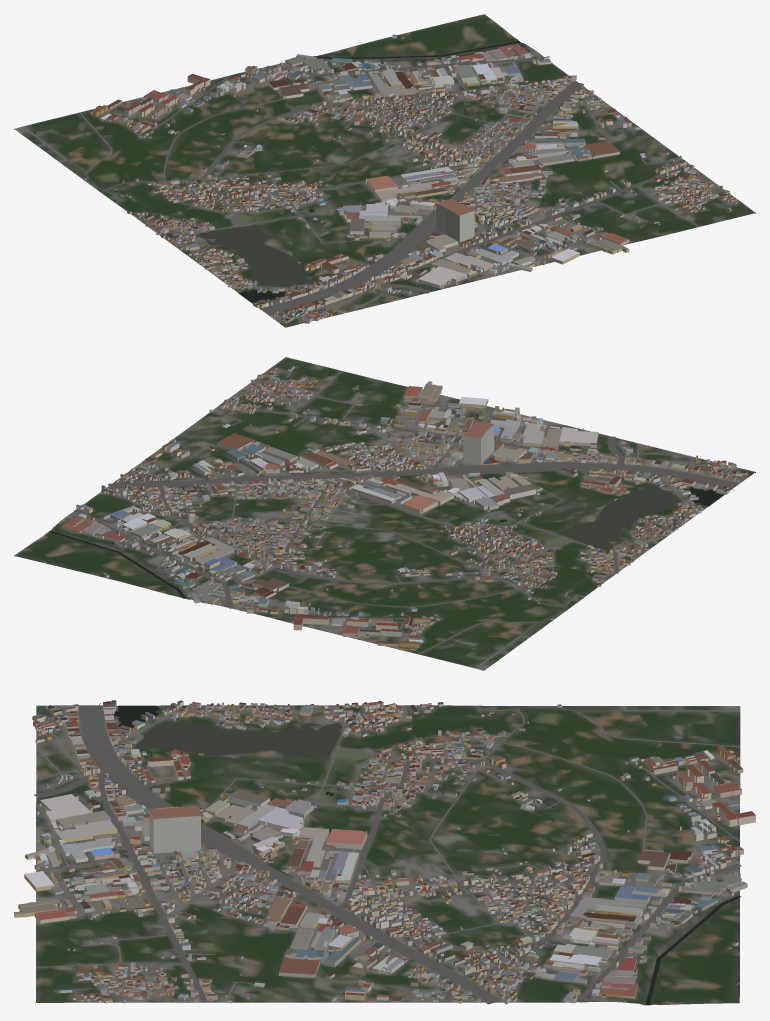
3 renders of one model, top to bottom at view 1: azimuth 30°, elevation 25°; view 2: azimuth 150°, elevation 25°; view 3: azimuth 270°, elevation 25°, orthographic. The views are drawn at different scales.
Visible parts, largest first — view 1: ground, buildings, roads, water; view 2: ground, buildings, roads, water; view 3: ground, buildings, roads, water.
Boxes of the visible parts, x1,y1,x2,y2 form: ground: (14, 14, 755, 327); buildings: (83, 34, 737, 323); roads: (22, 21, 738, 323); water: (196, 41, 520, 303); ground: (14, 357, 755, 670); buildings: (61, 366, 747, 650); roads: (43, 369, 740, 668); water: (49, 484, 723, 598); ground: (35, 705, 740, 1005); buildings: (14, 700, 755, 1004); roads: (34, 703, 741, 1004); water: (114, 705, 741, 1004).
Bounding box in the file's own units: 1422 × 83.94 × 1477.
